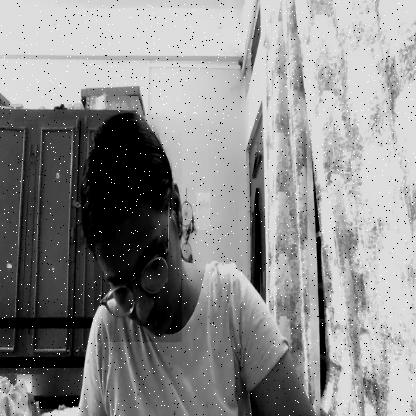Distracted: (94, 133, 182, 342)
